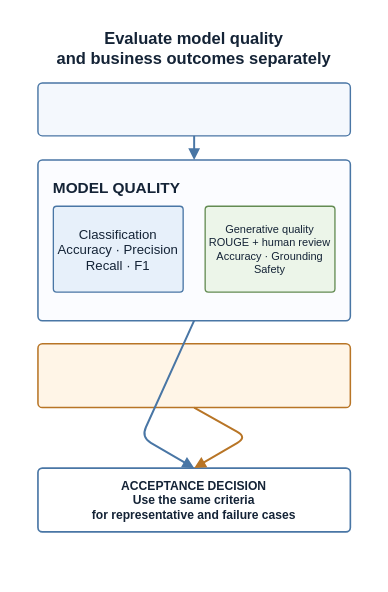
The diagram is 388 pixels wide and 592 high, and some of its shapes have lost their labels. Here are the shapes that lost their labels. From the top down, the centre of each, then its label:
At point 194,109: "Evaluation plan Representative cases + likely failures".
At point 194,375: "BUSINESS OUTCOMES Time to complete · Error reduction · User impact".
